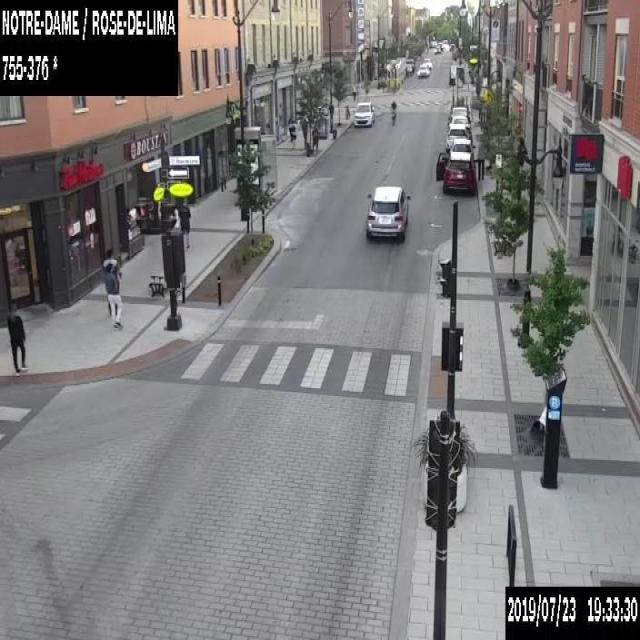cyclist: (389, 100, 396, 126)
pedestrian: (7, 301, 27, 375), (102, 248, 122, 317), (103, 264, 122, 326), (178, 200, 191, 247), (216, 149, 228, 192), (476, 138, 485, 180), (288, 120, 297, 148), (300, 118, 307, 148), (311, 124, 318, 153)
vehicle: (365, 184, 410, 240), (434, 150, 476, 195), (445, 123, 469, 151), (446, 137, 476, 156), (352, 101, 374, 125), (447, 116, 469, 131), (449, 106, 469, 122), (417, 62, 429, 77), (422, 57, 431, 68), (406, 58, 414, 68), (406, 64, 414, 74), (437, 41, 443, 50), (434, 44, 440, 53), (428, 41, 433, 46), (432, 40, 436, 45)
